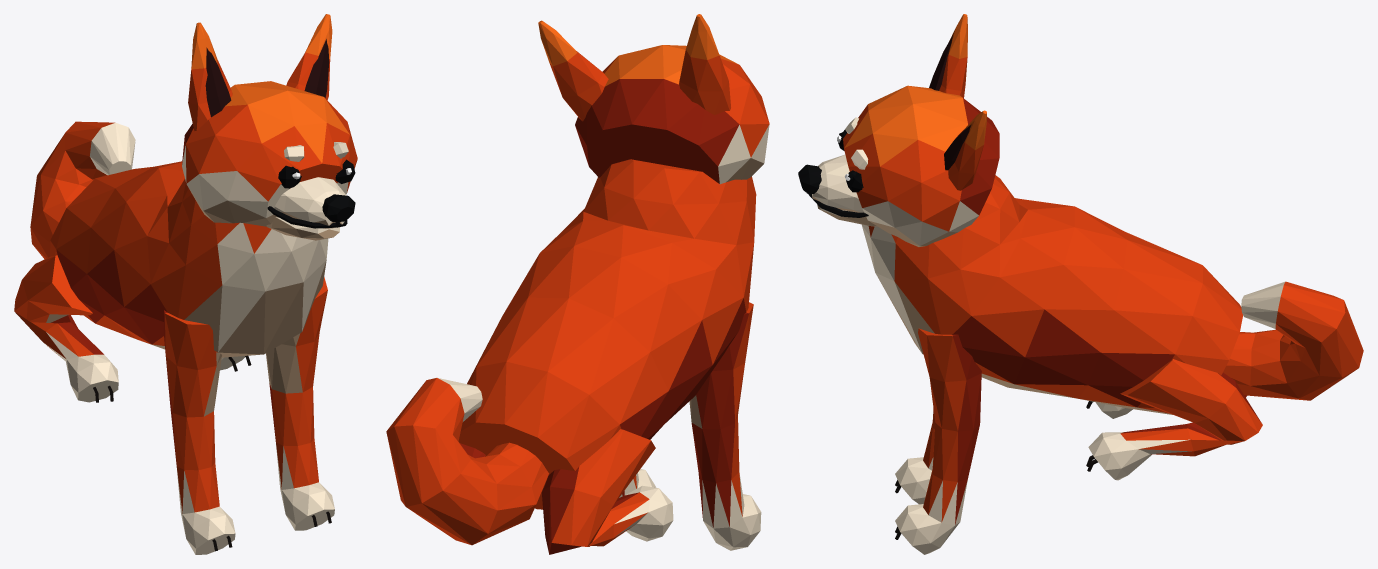
The model's file is cozy_shiba_inu.obj.
The picture shows the model from 3 angles, left to right: view 1: azimuth 30°, elevation 25°; view 2: azimuth 150°, elevation 25°; view 3: azimuth 270°, elevation 25°; orthographic projection. The views are drawn at different scales.
Visible parts, largest first — view 1: Shiba_Mesh; view 2: Shiba_Mesh; view 3: Shiba_Mesh.
Part boxes in pixels (left/top/right/bottom): Shiba_Mesh: left=14, top=14, right=357, bottom=554; Shiba_Mesh: left=386, top=14, right=769, bottom=554; Shiba_Mesh: left=798, top=14, right=1363, bottom=554.
Bounding box in the file's own units: 0.3776 × 0.9684 × 0.9984.
